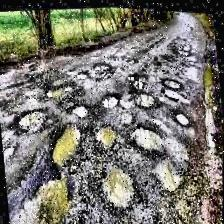pothole: (128, 115, 192, 195), (5, 166, 77, 224), (96, 157, 140, 215), (48, 117, 84, 171), (127, 67, 157, 109), (12, 105, 48, 137), (160, 69, 188, 103), (97, 118, 119, 150), (47, 76, 70, 102), (100, 85, 120, 109), (70, 98, 89, 116), (92, 57, 110, 73), (176, 110, 190, 126), (74, 67, 88, 81)
